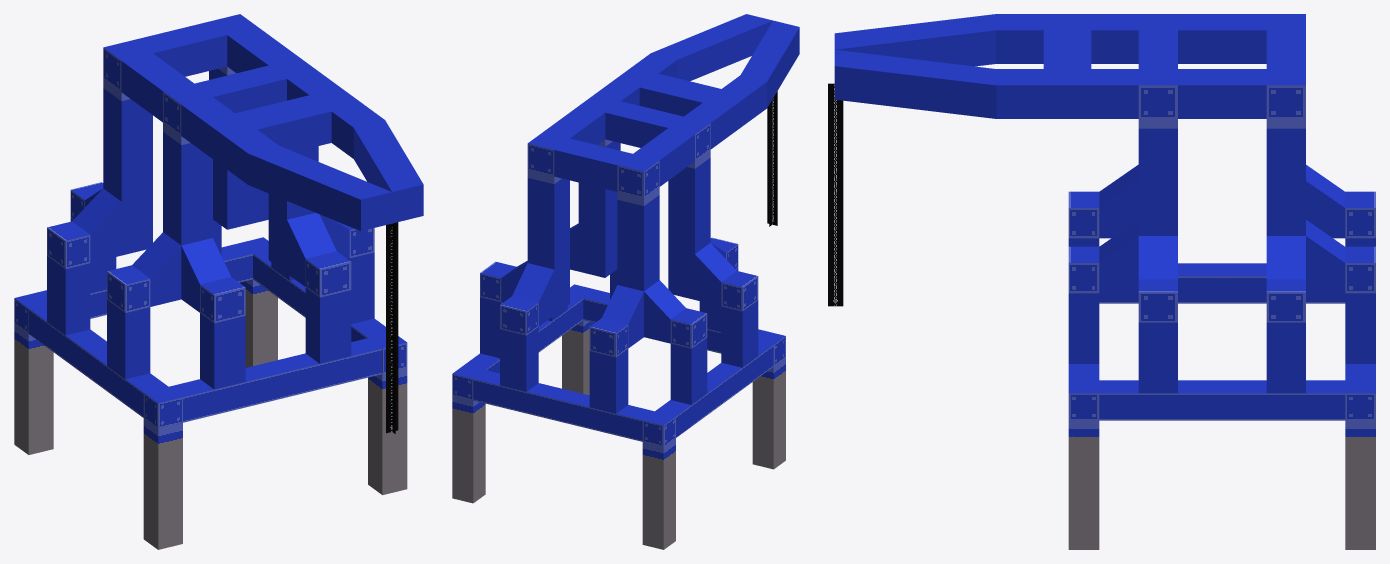
Rendered from Crane.glb.
The picture shows the model from 3 angles, left to right: view 1: azimuth 30°, elevation 25°; view 2: azimuth 150°, elevation 25°; view 3: azimuth 270°, elevation 25°; orthographic projection. The views are drawn at different scales.
Parts seen in each view (by area): view 1: Cube, Cube.001; view 2: Cube, Cube.001; view 3: Cube, Cube.001.
Part boxes in pixels (<box>): Cube: <box>14,14,423,549</box>; Cube.001: <box>386,222,398,433</box>; Cube: <box>452,14,799,549</box>; Cube.001: <box>767,91,777,226</box>; Cube: <box>834,14,1375,549</box>; Cube.001: <box>828,83,843,306</box>.
Size of the model in its own units: 40 by 62.51 by 71.3.
Materials: 1 (1 with a texture image).
